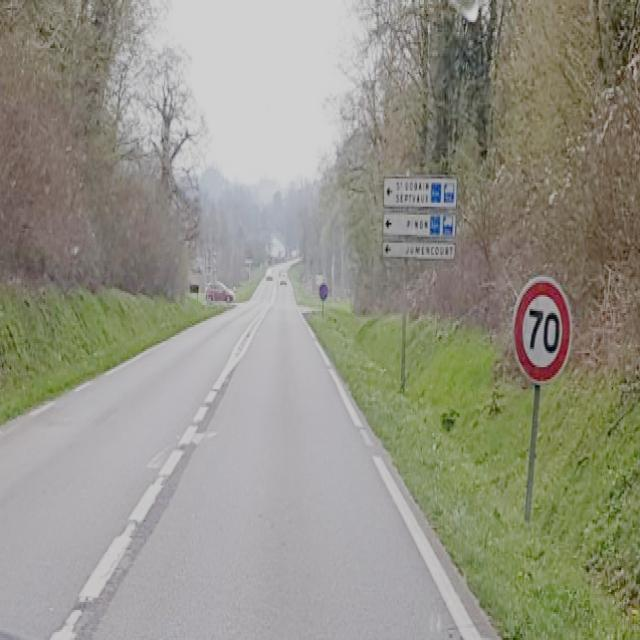speed_70: (512, 276, 573, 384)
